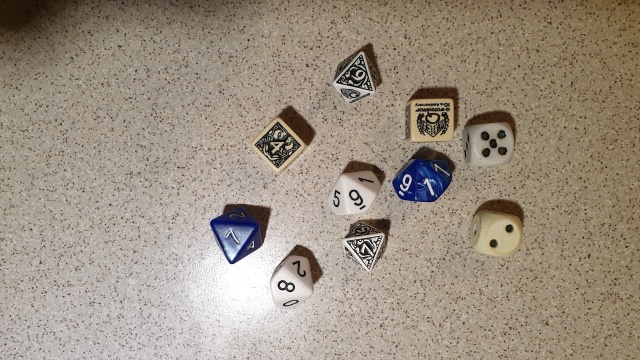d10-1: (390, 151, 455, 209)
d10-7: (203, 205, 272, 268)
d10-8: (264, 248, 316, 314)
d10-9: (325, 166, 384, 219)
d6-2: (465, 204, 521, 261)
d6-5: (460, 117, 521, 171)
d6p-4: (250, 116, 308, 173)
d6p-6: (402, 92, 456, 146)
d8p-6: (326, 44, 387, 108)
d8p-7: (337, 216, 391, 273)
